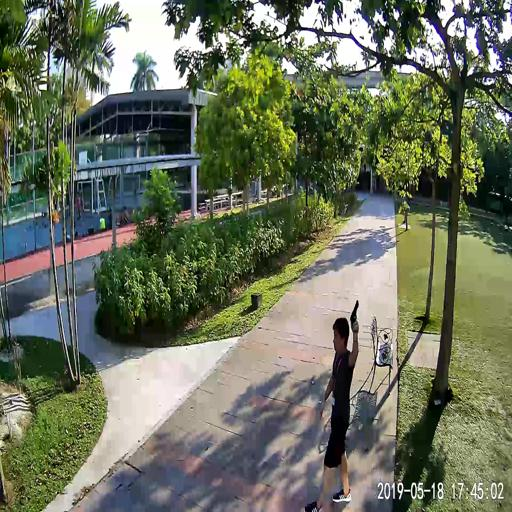pistol: (350, 298, 359, 323)
